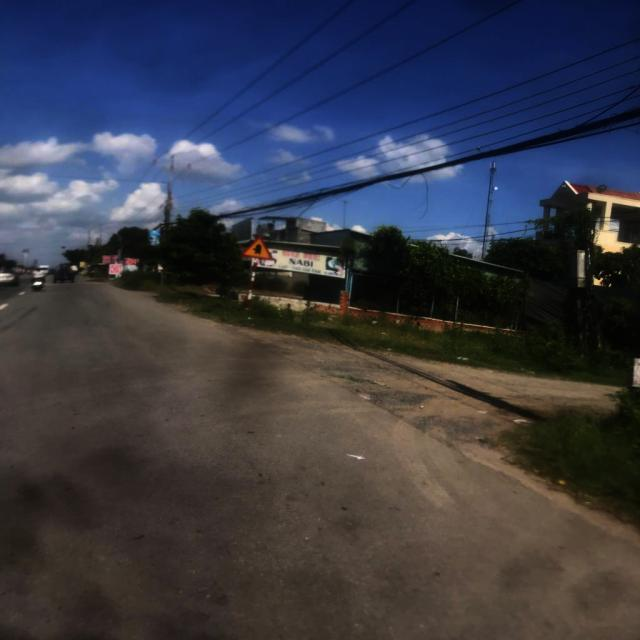giao_nhau_voi_duong_khong_uu_tien: (241, 237, 273, 260)
